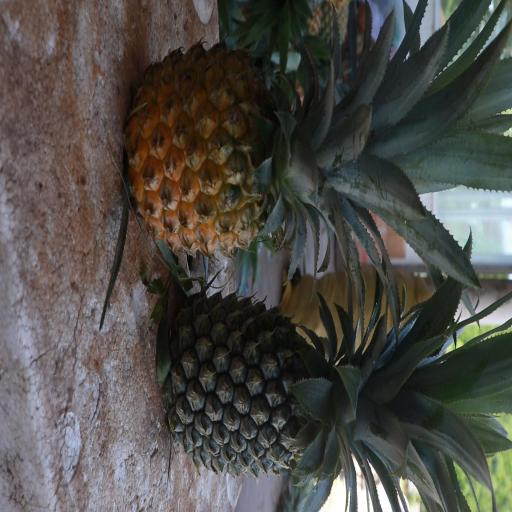Pineapple - v8 v1: (130, 48, 459, 255)
